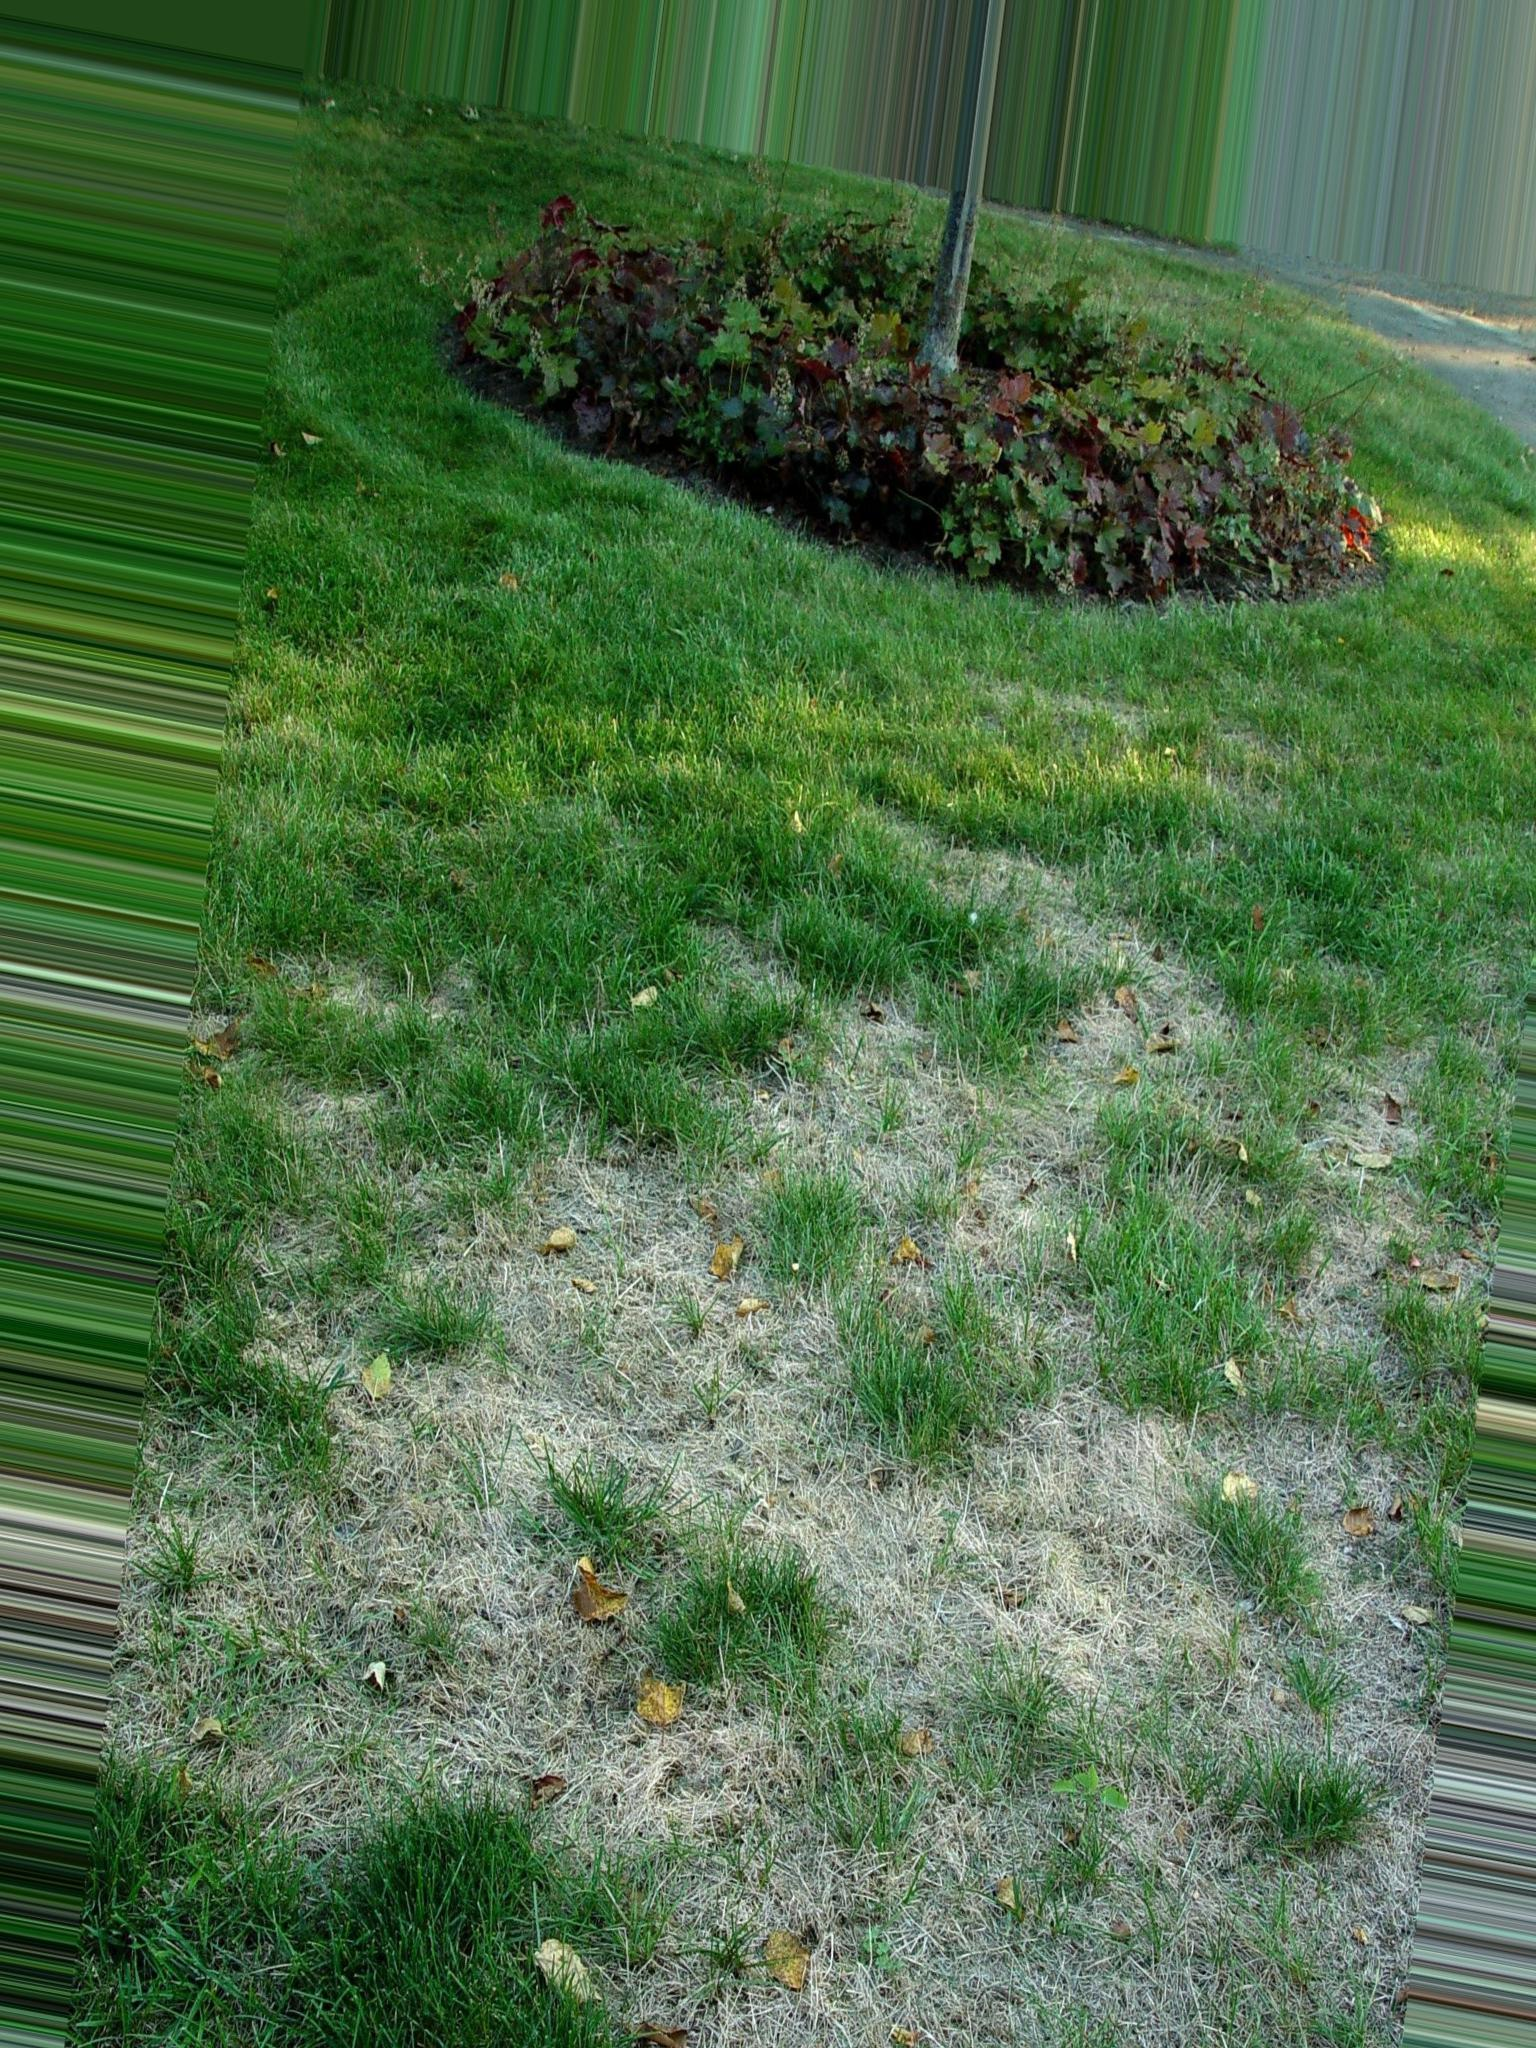patch: (511, 1156, 1371, 2022)
